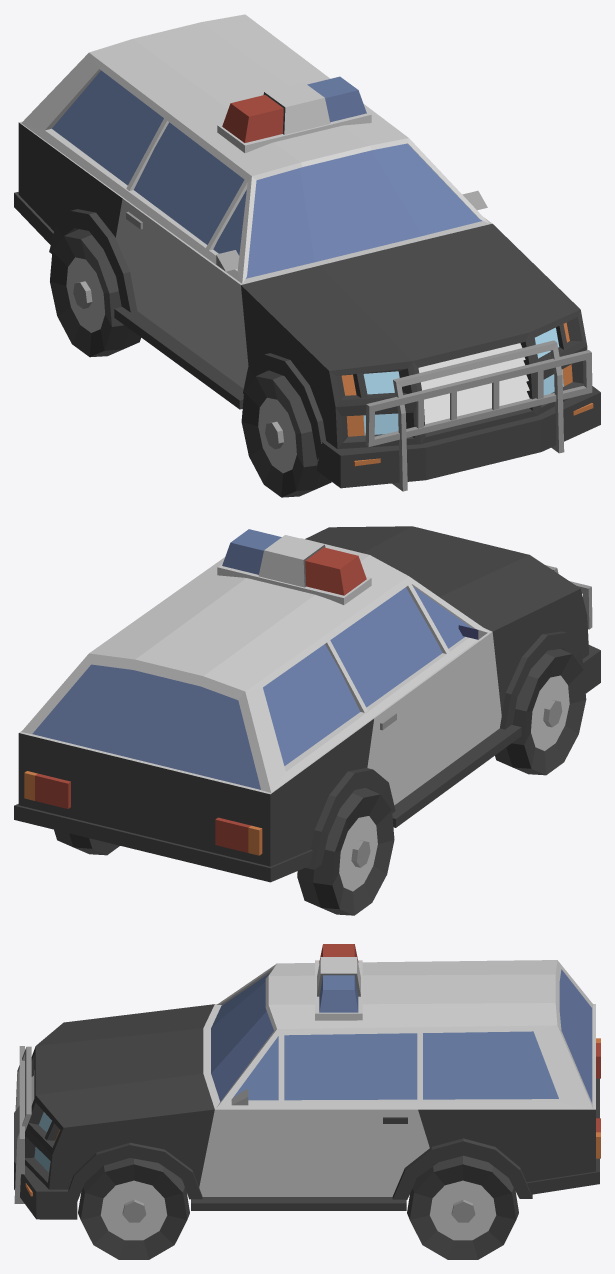
File: transport_purpose_010.fbx
3 views of the same model, one above another, from view 1: azimuth 30°, elevation 25°; view 2: azimuth 150°, elevation 25°; view 3: azimuth 270°, elevation 25° (orthographic). The views are drawn at different scales.
Visible parts, largest first — view 1: transport_purpose_010; view 2: transport_purpose_010; view 3: transport_purpose_010.
Boxes of the visible parts, box(x1,y1,x2,y2) form: transport_purpose_010: box(14, 14, 600, 497); transport_purpose_010: box(14, 526, 600, 915); transport_purpose_010: box(14, 944, 600, 1259).
Size of the model in its own units: 176 by 164 by 368.
